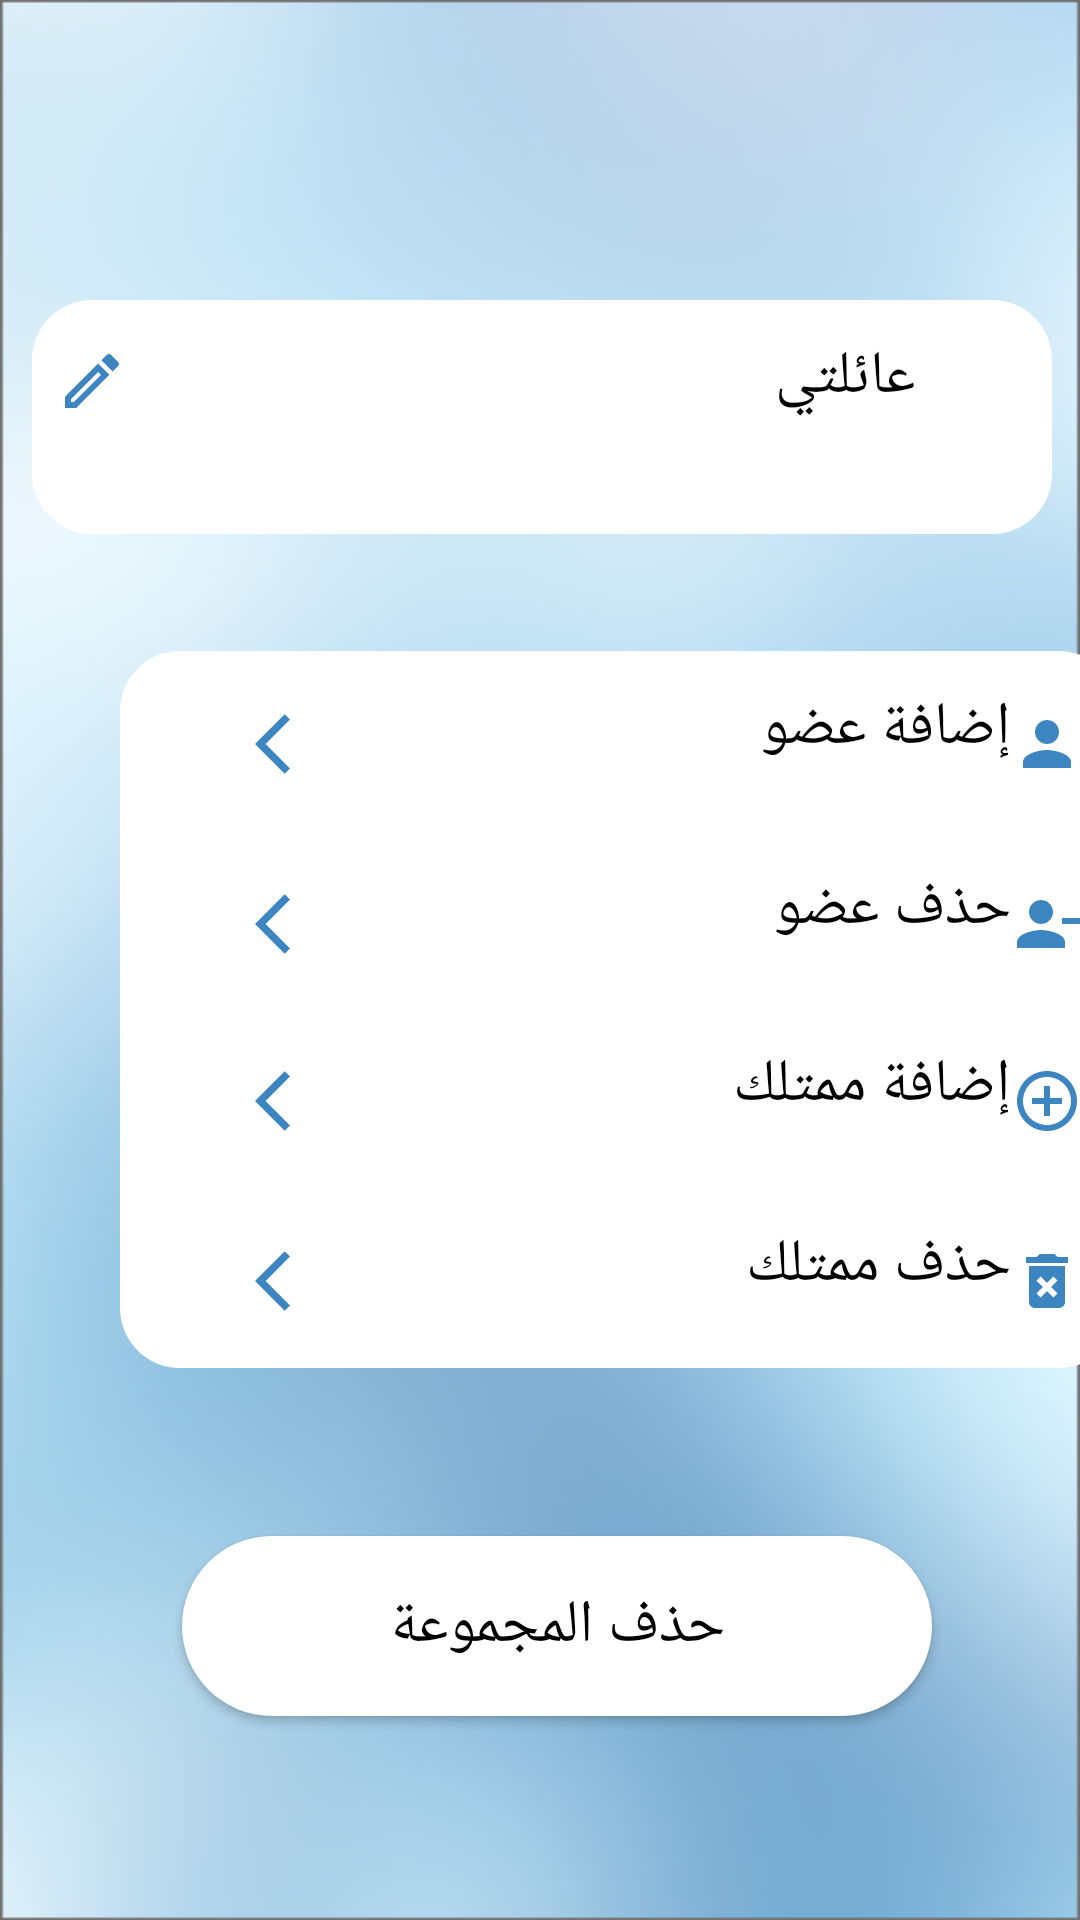

Where icons sit on this 1080px x 1920px app screen, as bbox=(x1, y1, x2, y2):
edit: bbox=(65, 354, 119, 408)
